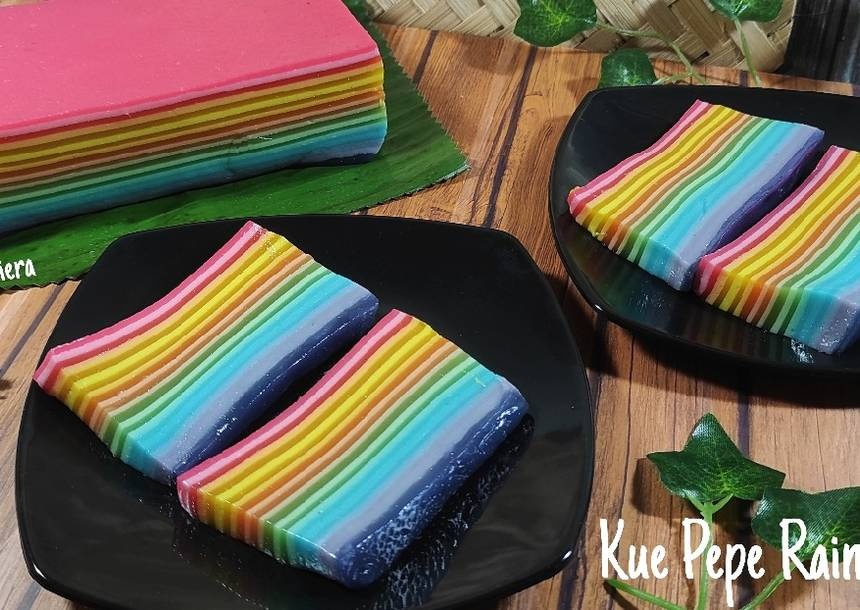kue_lapis_pelangi: (174, 307, 530, 589), (39, 219, 382, 486), (0, 46, 388, 244), (565, 95, 829, 296)
